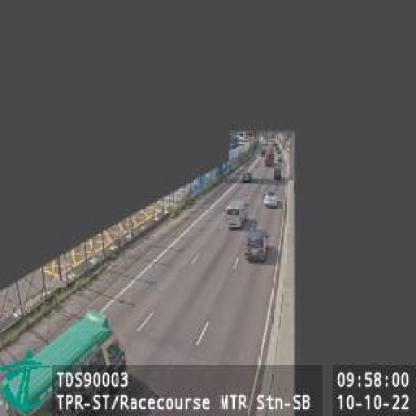Car: (245, 230, 268, 262), (226, 202, 246, 230), (263, 191, 277, 207)
Minibus: (0, 312, 127, 415)
